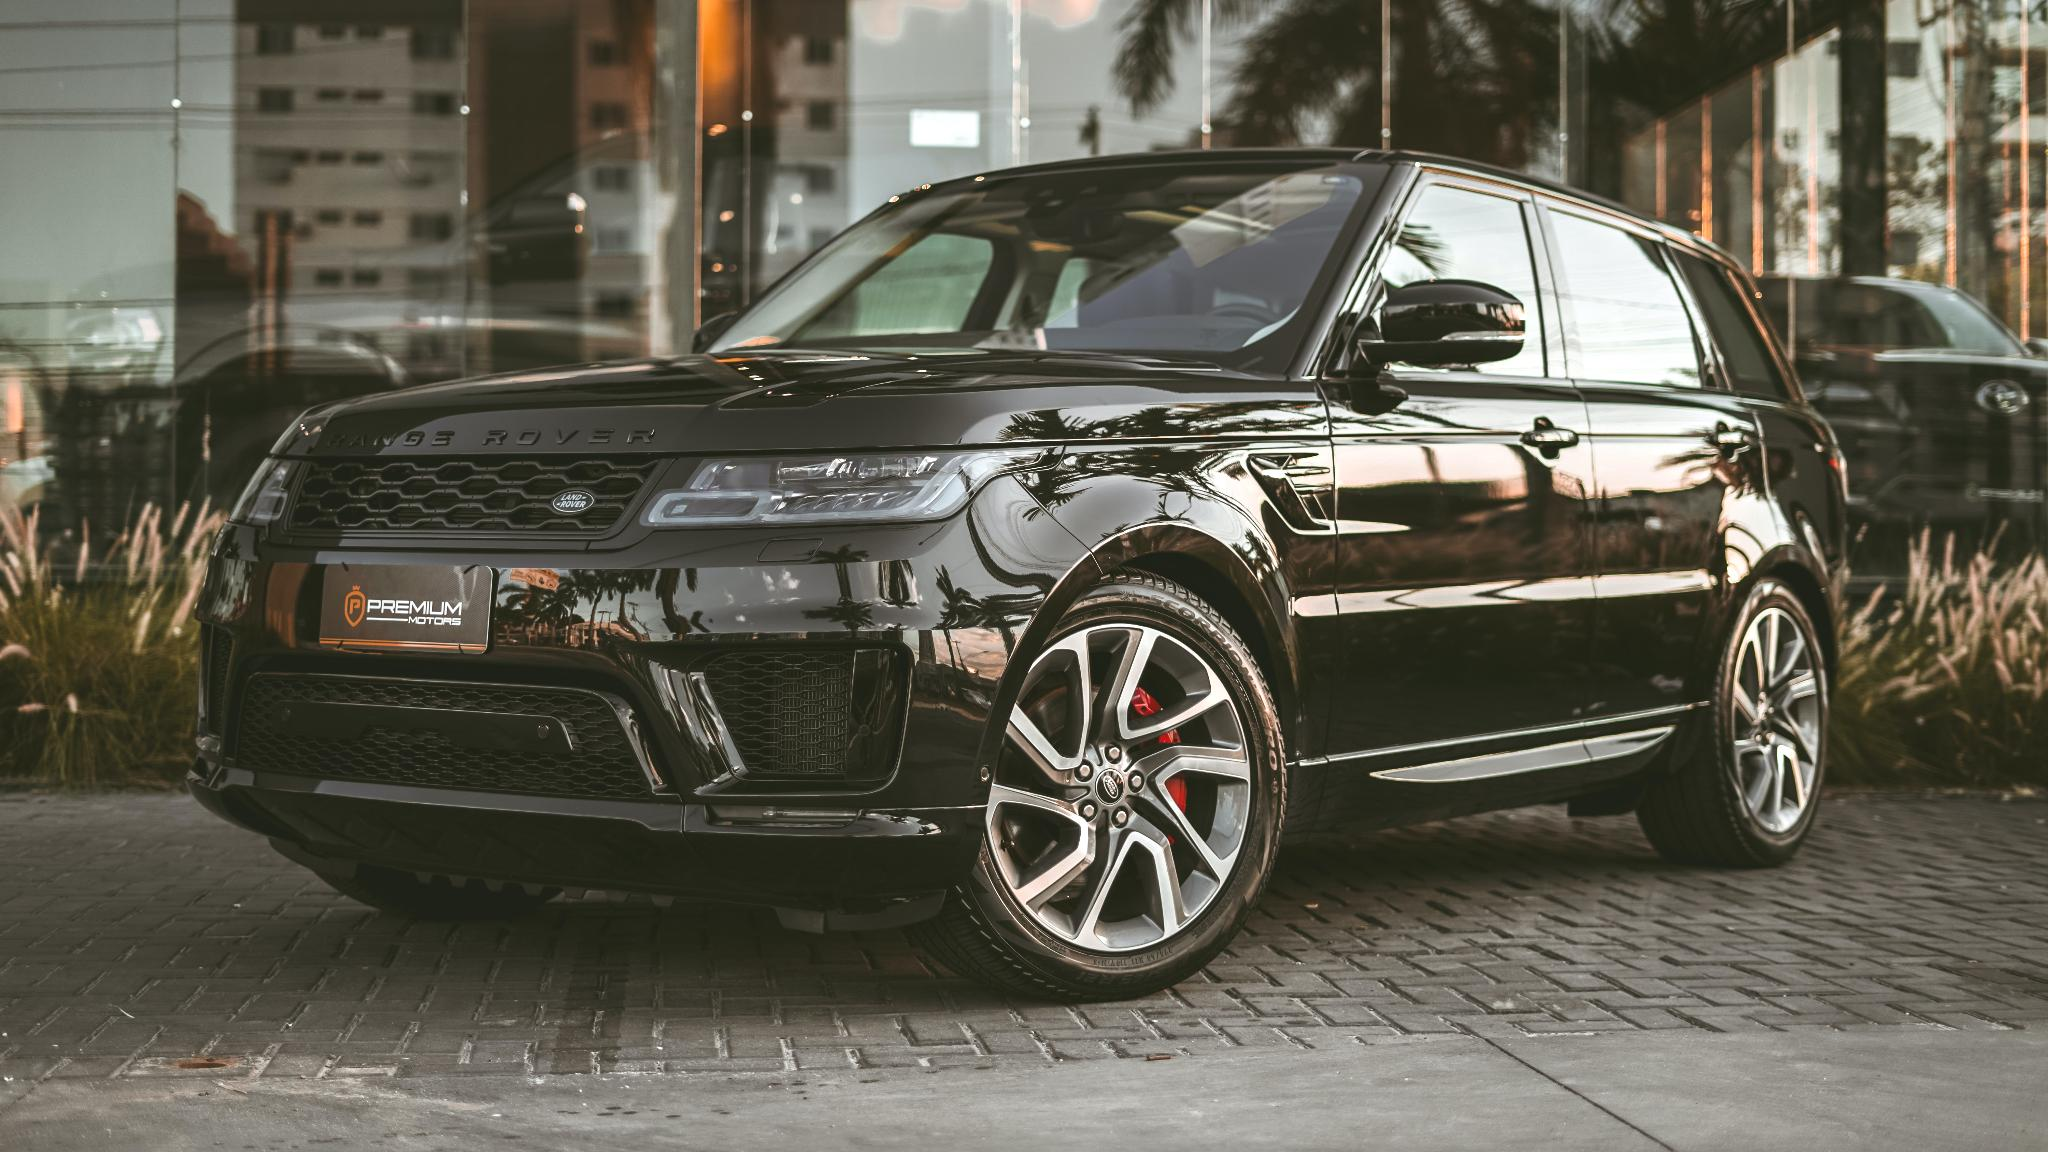range rover: (304, 401, 678, 470)
